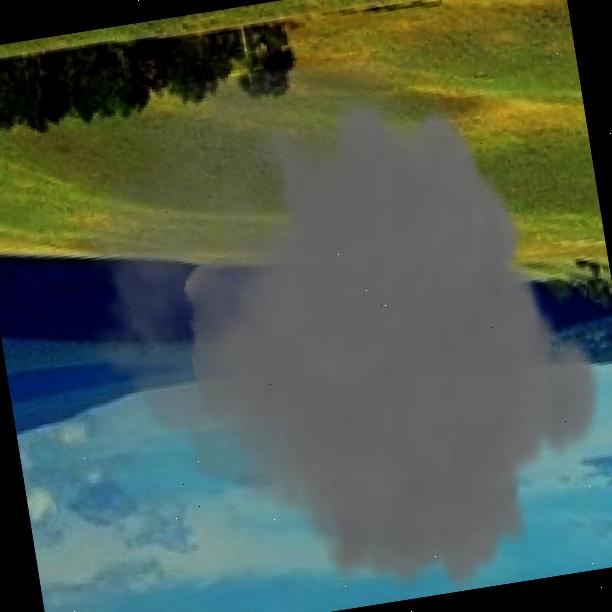smoke: (40, 27, 612, 612)
